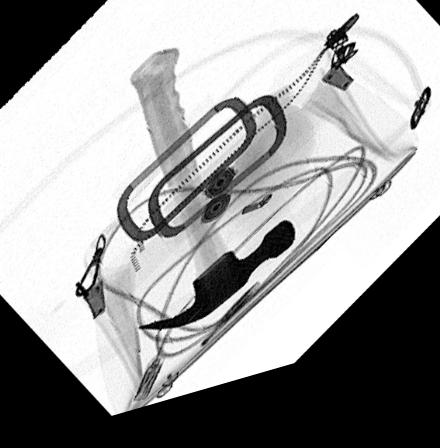Hammer: (126, 58, 294, 339)
